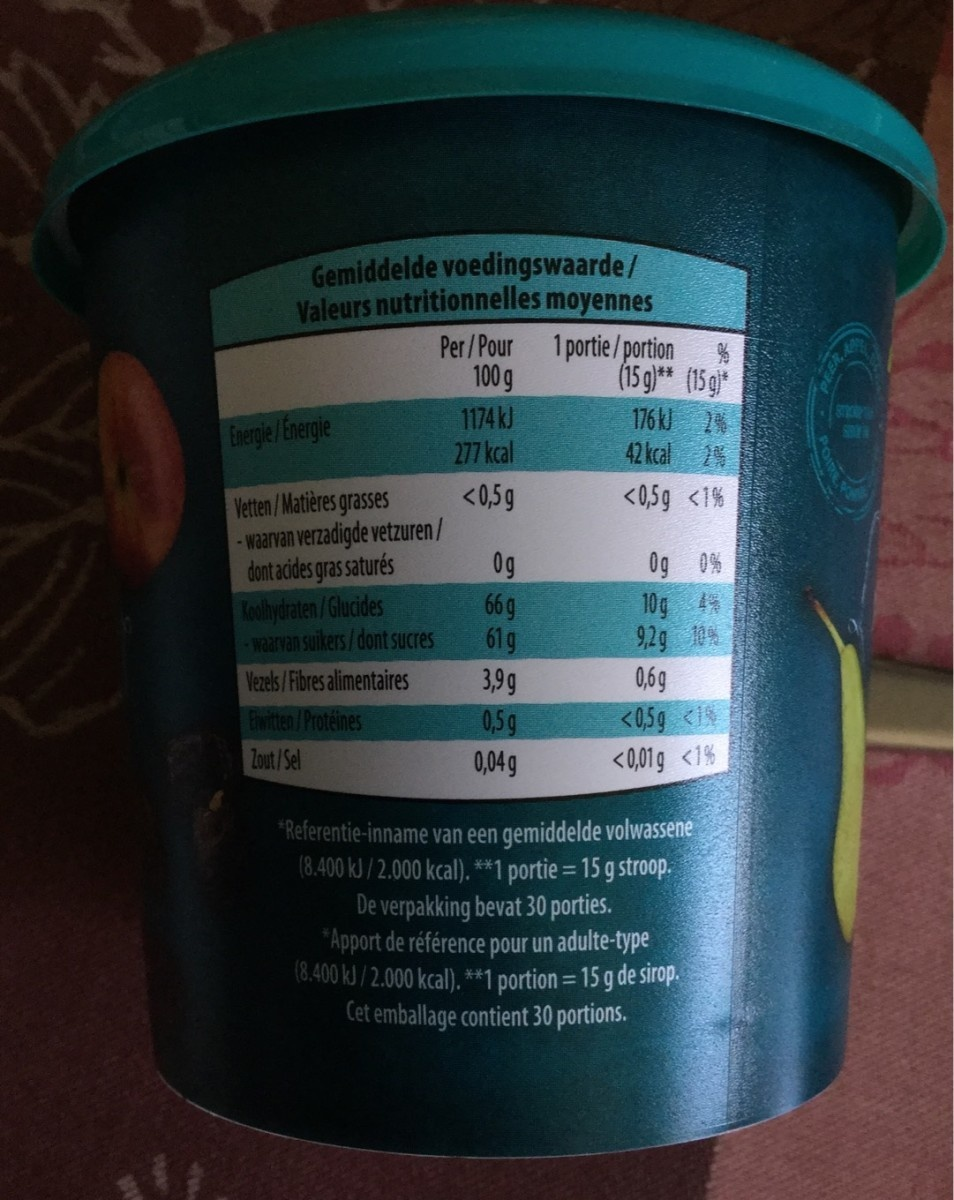column: (227, 412, 445, 805), (549, 325, 675, 804), (454, 331, 520, 784), (683, 326, 732, 805)
table: (202, 228, 751, 804)
